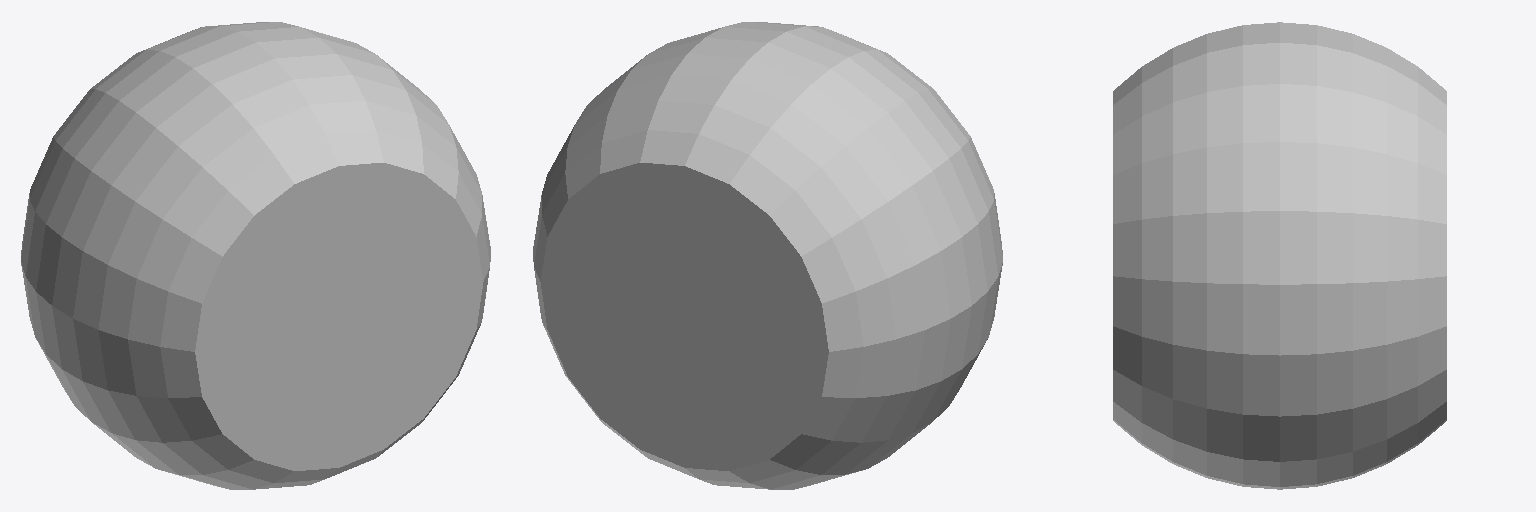
The model's file is LShoulderPitch.obj.
3 renders of one model, left to right at view 1: azimuth 30°, elevation 25°; view 2: azimuth 150°, elevation 25°; view 3: azimuth 270°, elevation 25°, orthographic.
Size of the model in its own units: 0.832 by 0.832 by 0.5883.